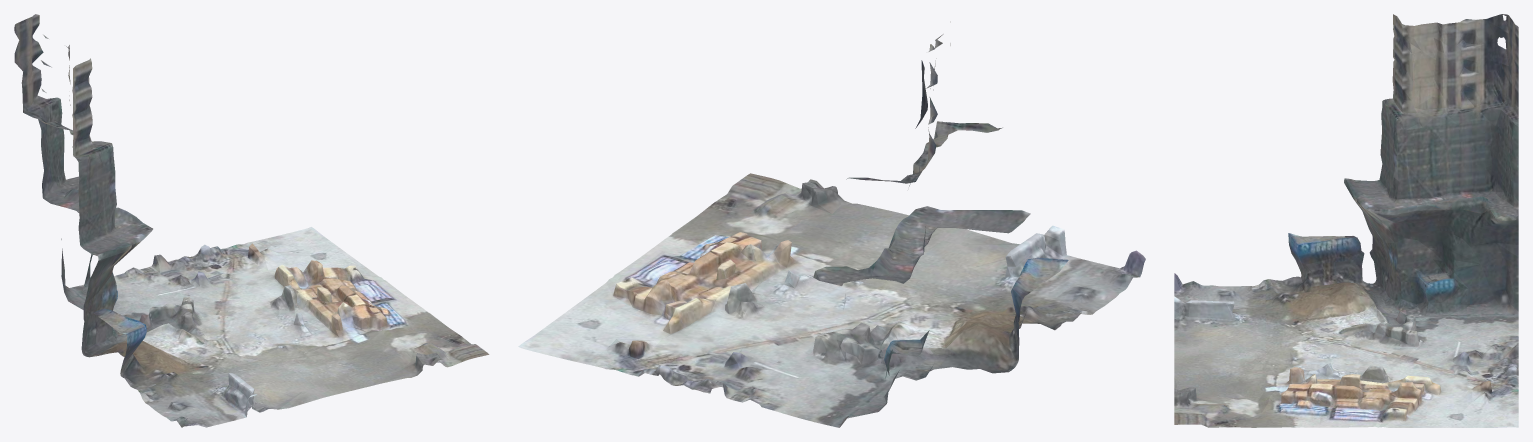
Rendered from Tile_+003_+002_L20_000340t2.glb.
The picture shows the model from 3 angles, left to right: view 1: azimuth 30°, elevation 25°; view 2: azimuth 150°, elevation 25°; view 3: azimuth 270°, elevation 25°; orthographic projection. The views are drawn at different scales.
Visible parts, largest first — view 1: rtc; view 2: rtc; view 3: rtc.
Part boxes in pixels (x1,y1,x2,y2): rtc: (14,14,489,427); rtc: (518,21,1145,427); rtc: (1174,14,1518,427).
Size of the model in its own units: 25.25 by 22.51 by 25.69.
Materials: 1 (1 with a texture image).
